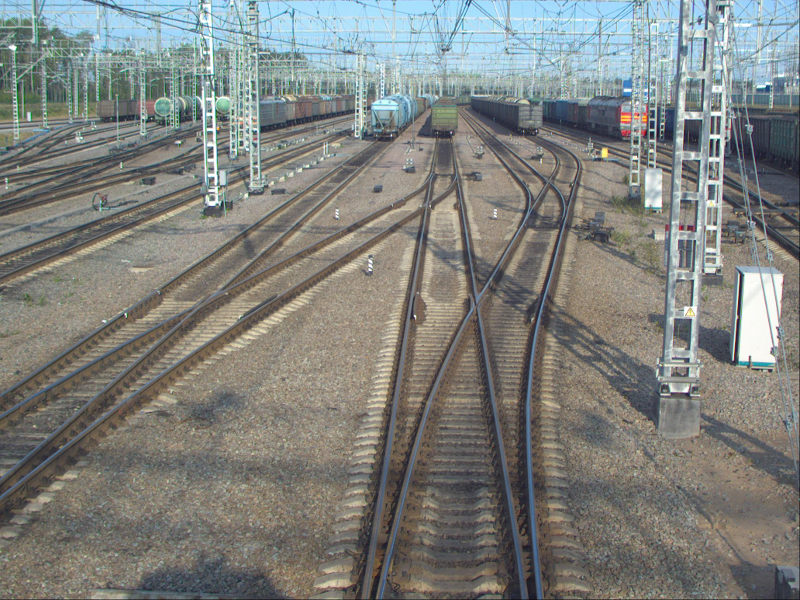right: (524, 206, 567, 228)
